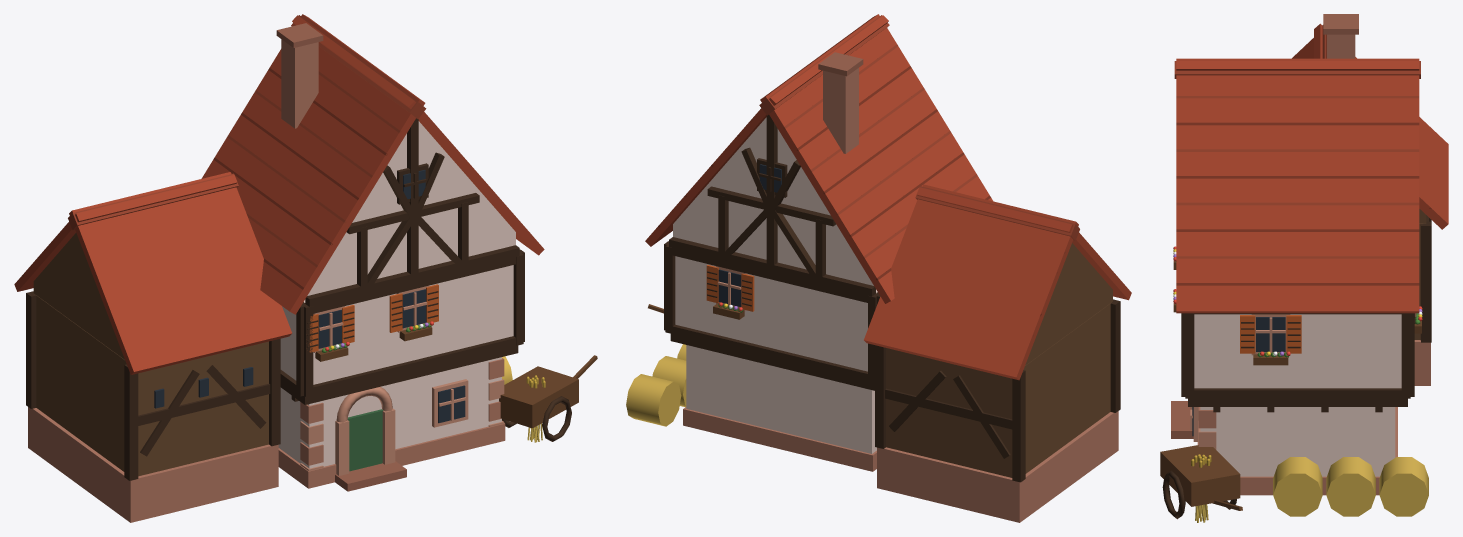
The model's file is bauernhof.glb.
3 views of the same model, side by side, from view 1: azimuth 30°, elevation 25°; view 2: azimuth 150°, elevation 25°; view 3: azimuth 270°, elevation 25° (orthographic). The views are drawn at different scales.
Size of the model in its own units: 6.54 by 5.15 by 3.25.
